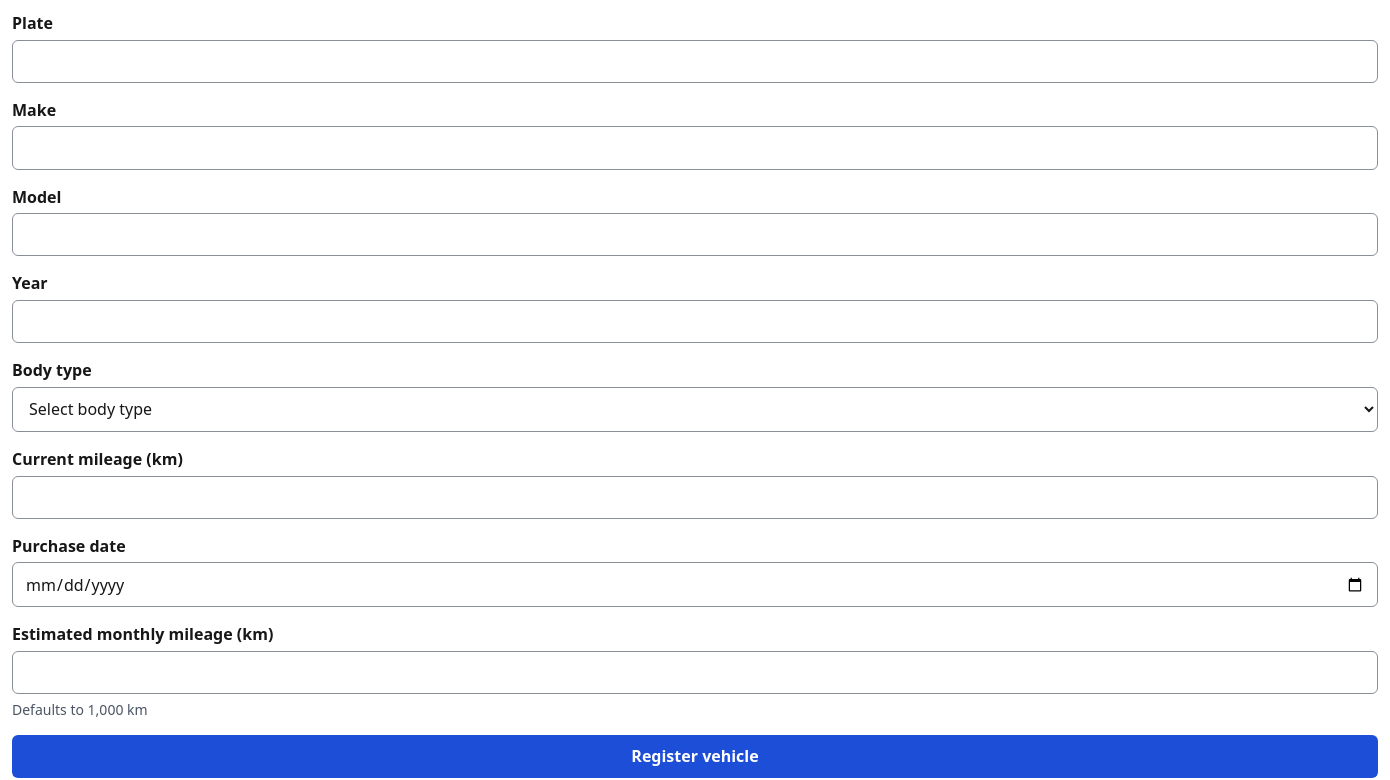
Test case: VehicleForm › registration › disables the button and says so while the request is in flight
Type "abc-123" into the field labelled "Plate" at (695, 61), box [12,40,1378,83]
Type "Toyota" into the field labelled "Make" at (695, 148), box [12,126,1378,170]
Type "Corolla" into the field labelled "Model" at (695, 235), box [12,213,1378,256]
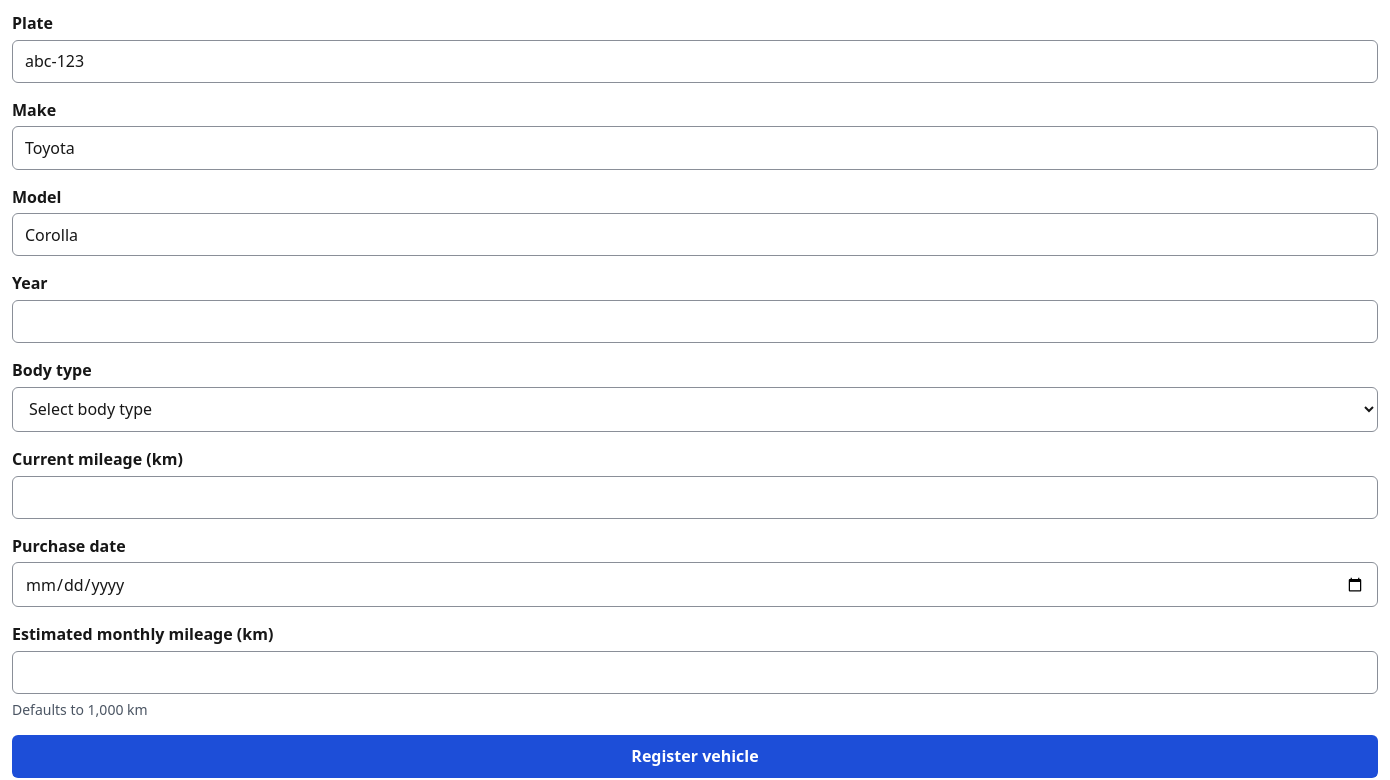
Type "2020" into the field labelled "Year" at (695, 322), box [12,300,1378,343]
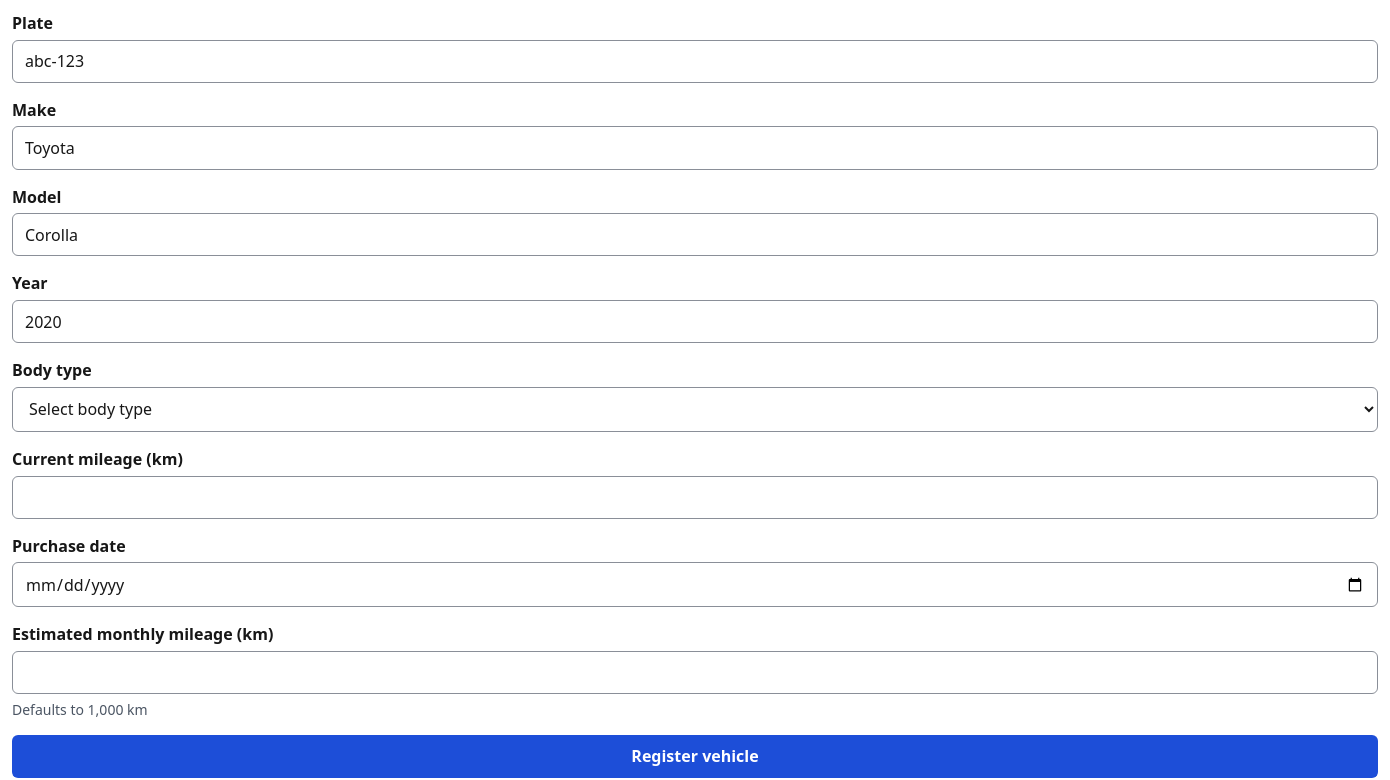
Select "Sedan" in the dropdown labelled "Body type" at (695, 409), box [12,387,1378,432]
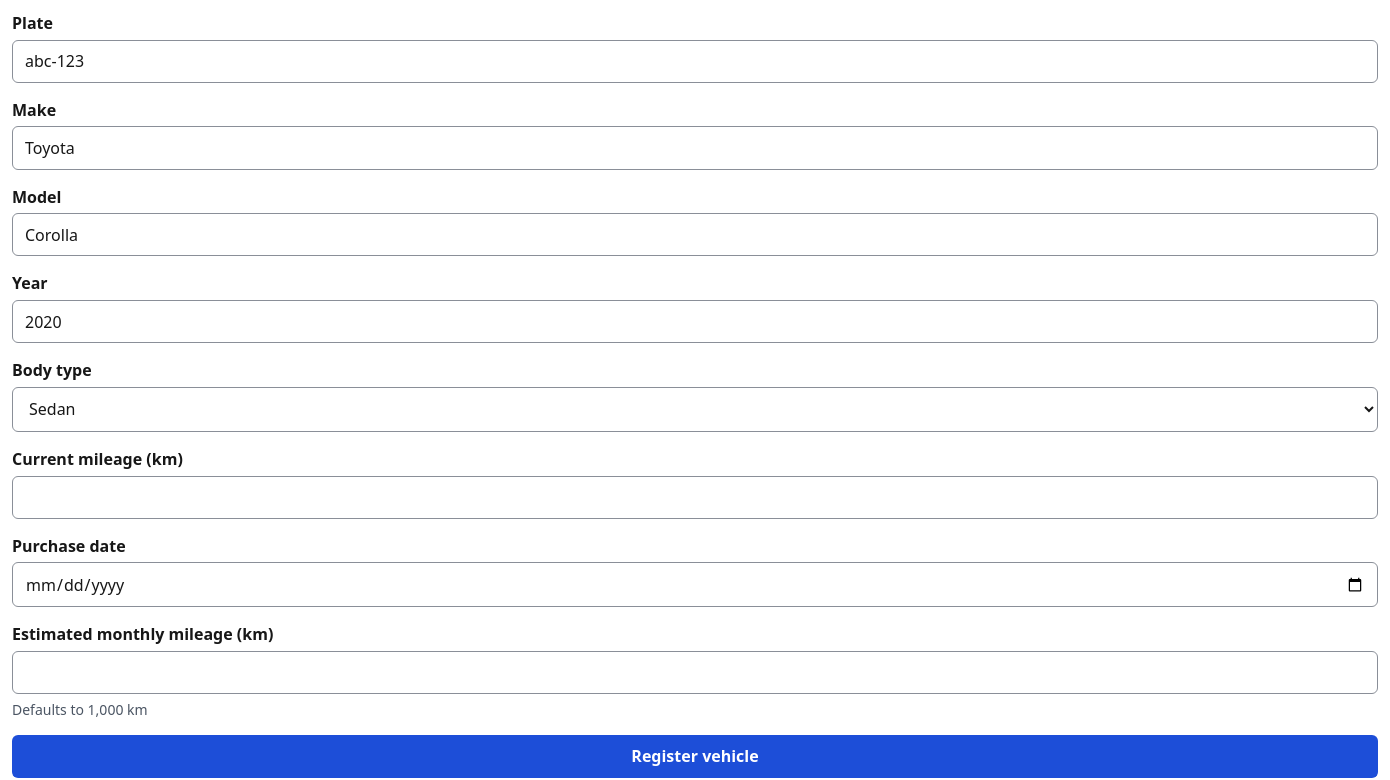
Type "45000" into the field labelled "Current mileage (km)" at (695, 497), box [12,476,1378,519]
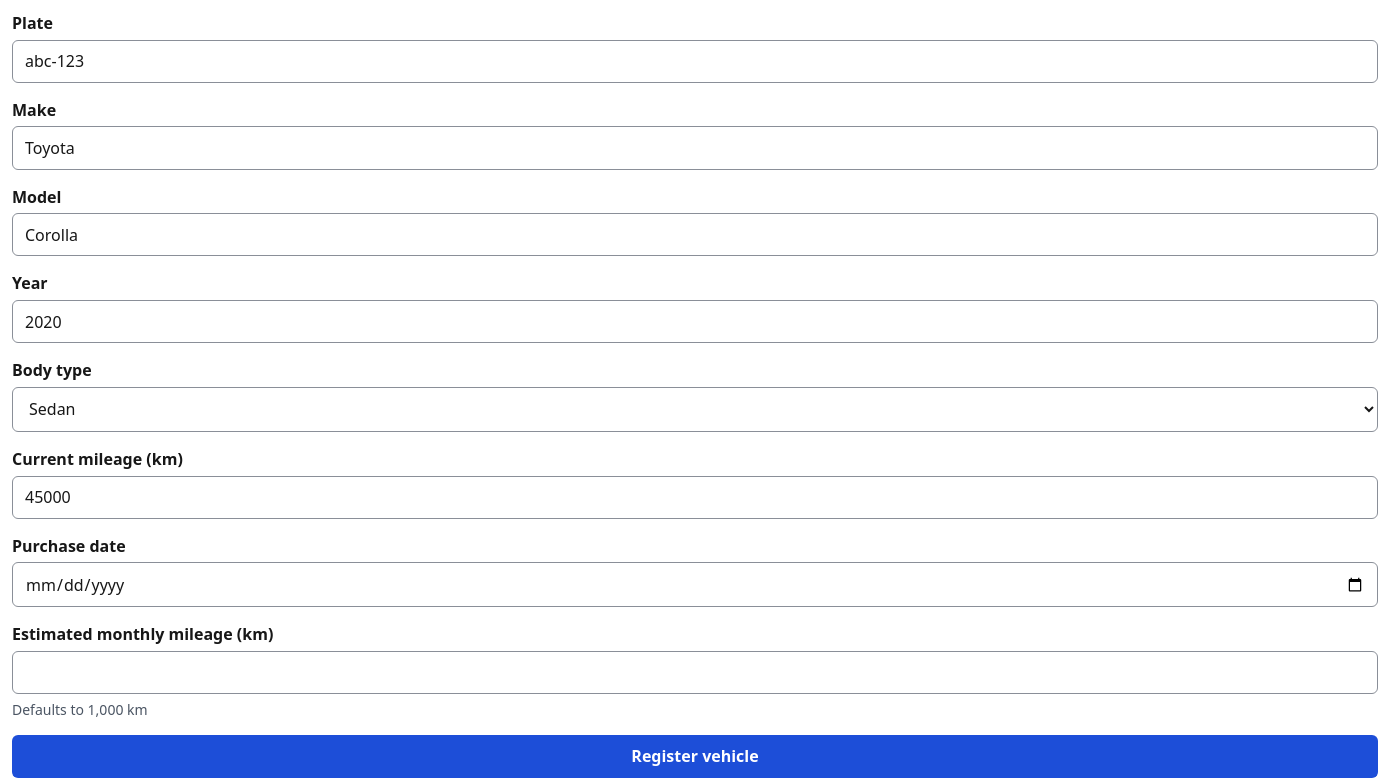
Type "2020-03-01" into the date field labelled "Purchase date" at (695, 585), box [12,562,1378,608]
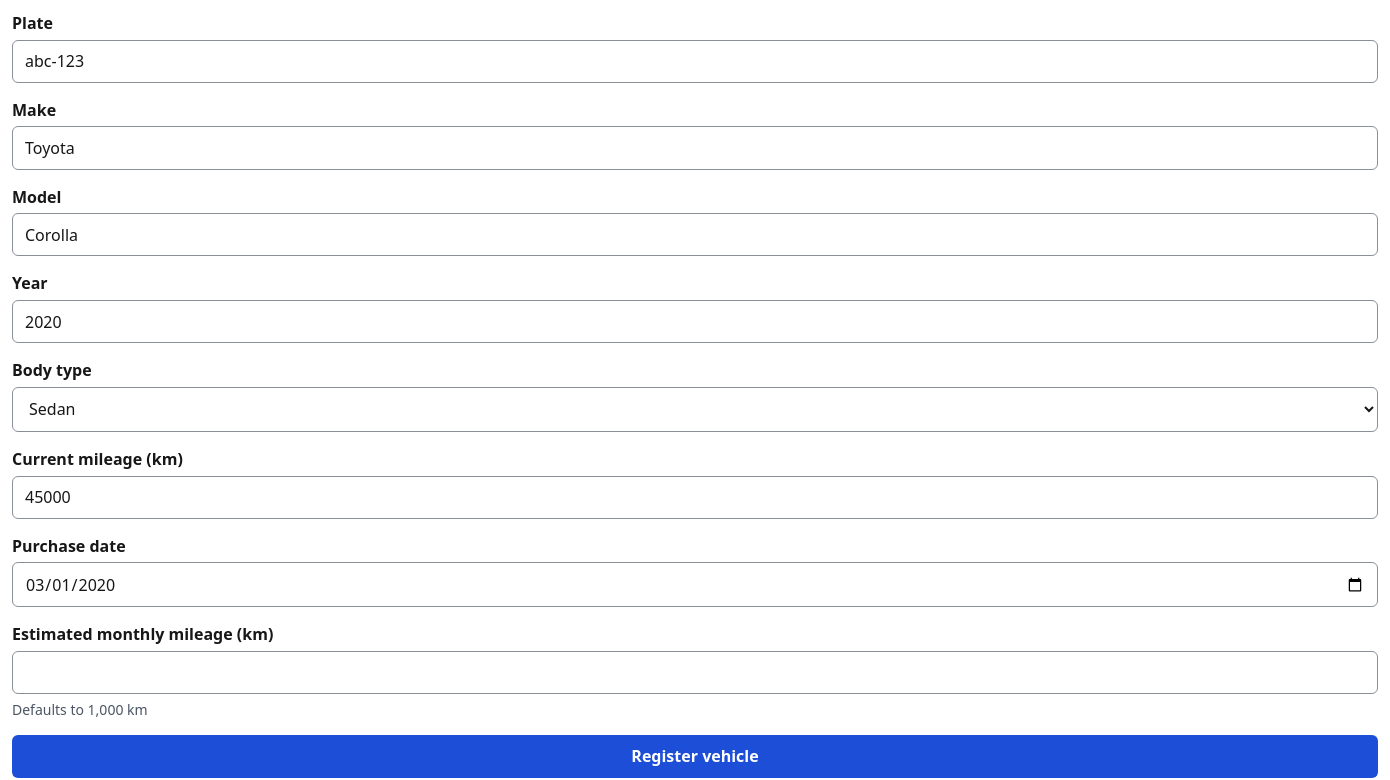
Click the button "Register vehicle" at (695, 756), box [12,735,1378,778]
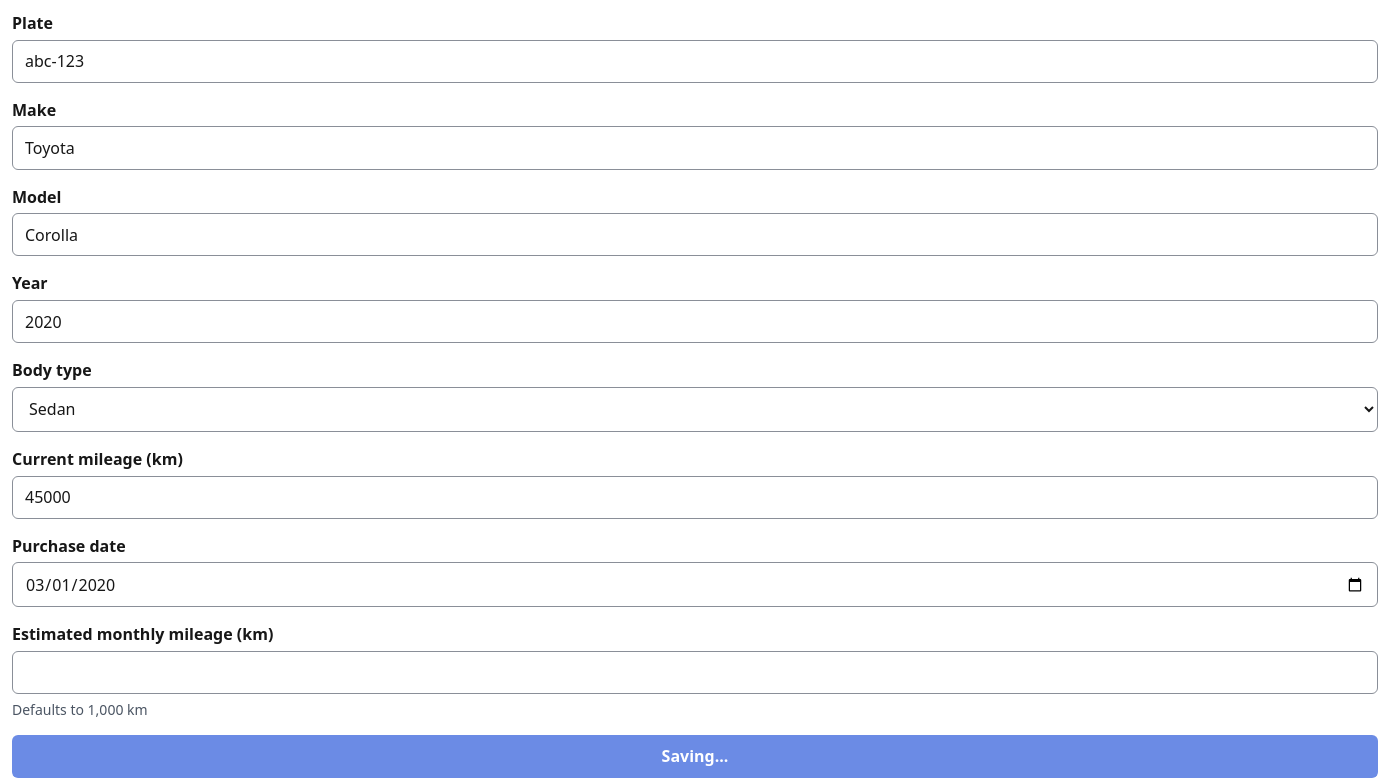
Expected: the button "Saving..." is disabled, [12,735,1378,778]
